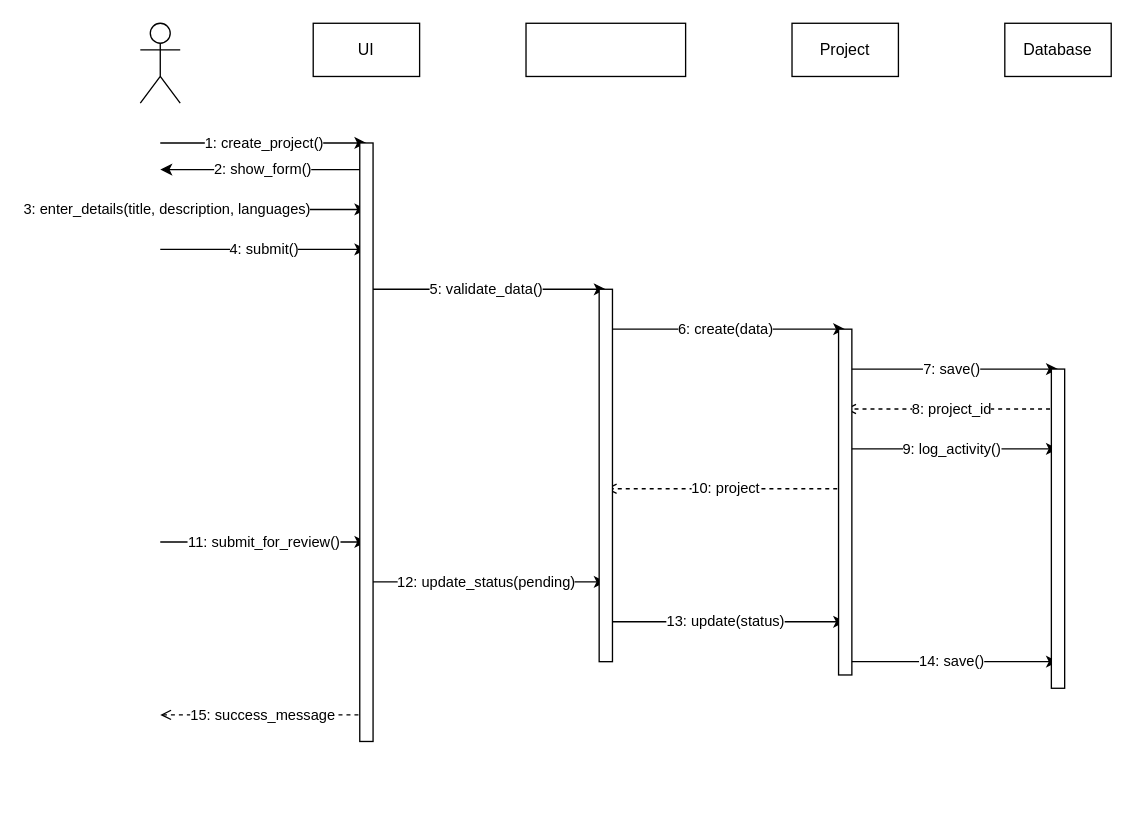
Some shapes in this 1134 by 819 pixel diagram are drawn without their labels. The box of each missing label's shape, as (x1, y1, x2, y2) in pixels:
ProjectController: (525, 22, 686, 76)
Student: (139, 22, 180, 103)
